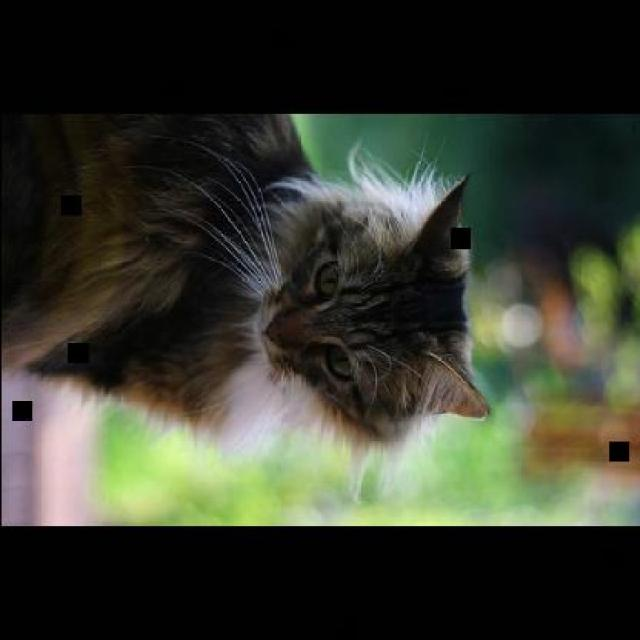unauthorized: (0, 111, 491, 503)
